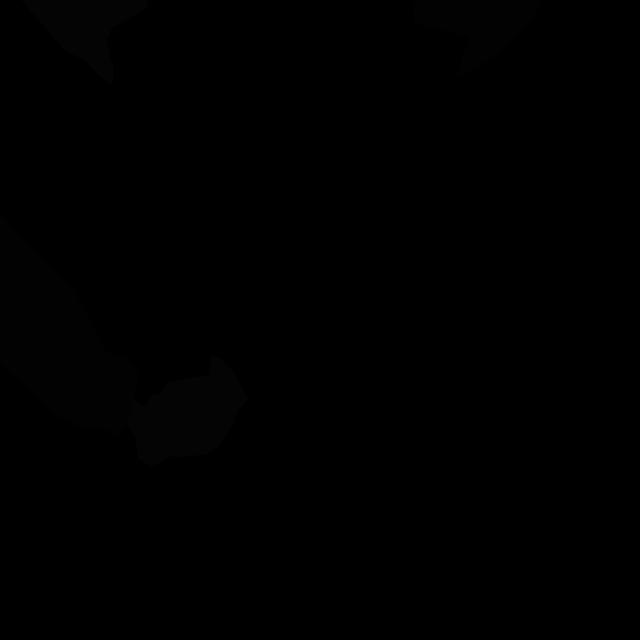cardboard: (0, 212, 139, 438), (412, 0, 540, 77)
soft_plastic: (125, 356, 249, 467), (21, 0, 149, 86)
